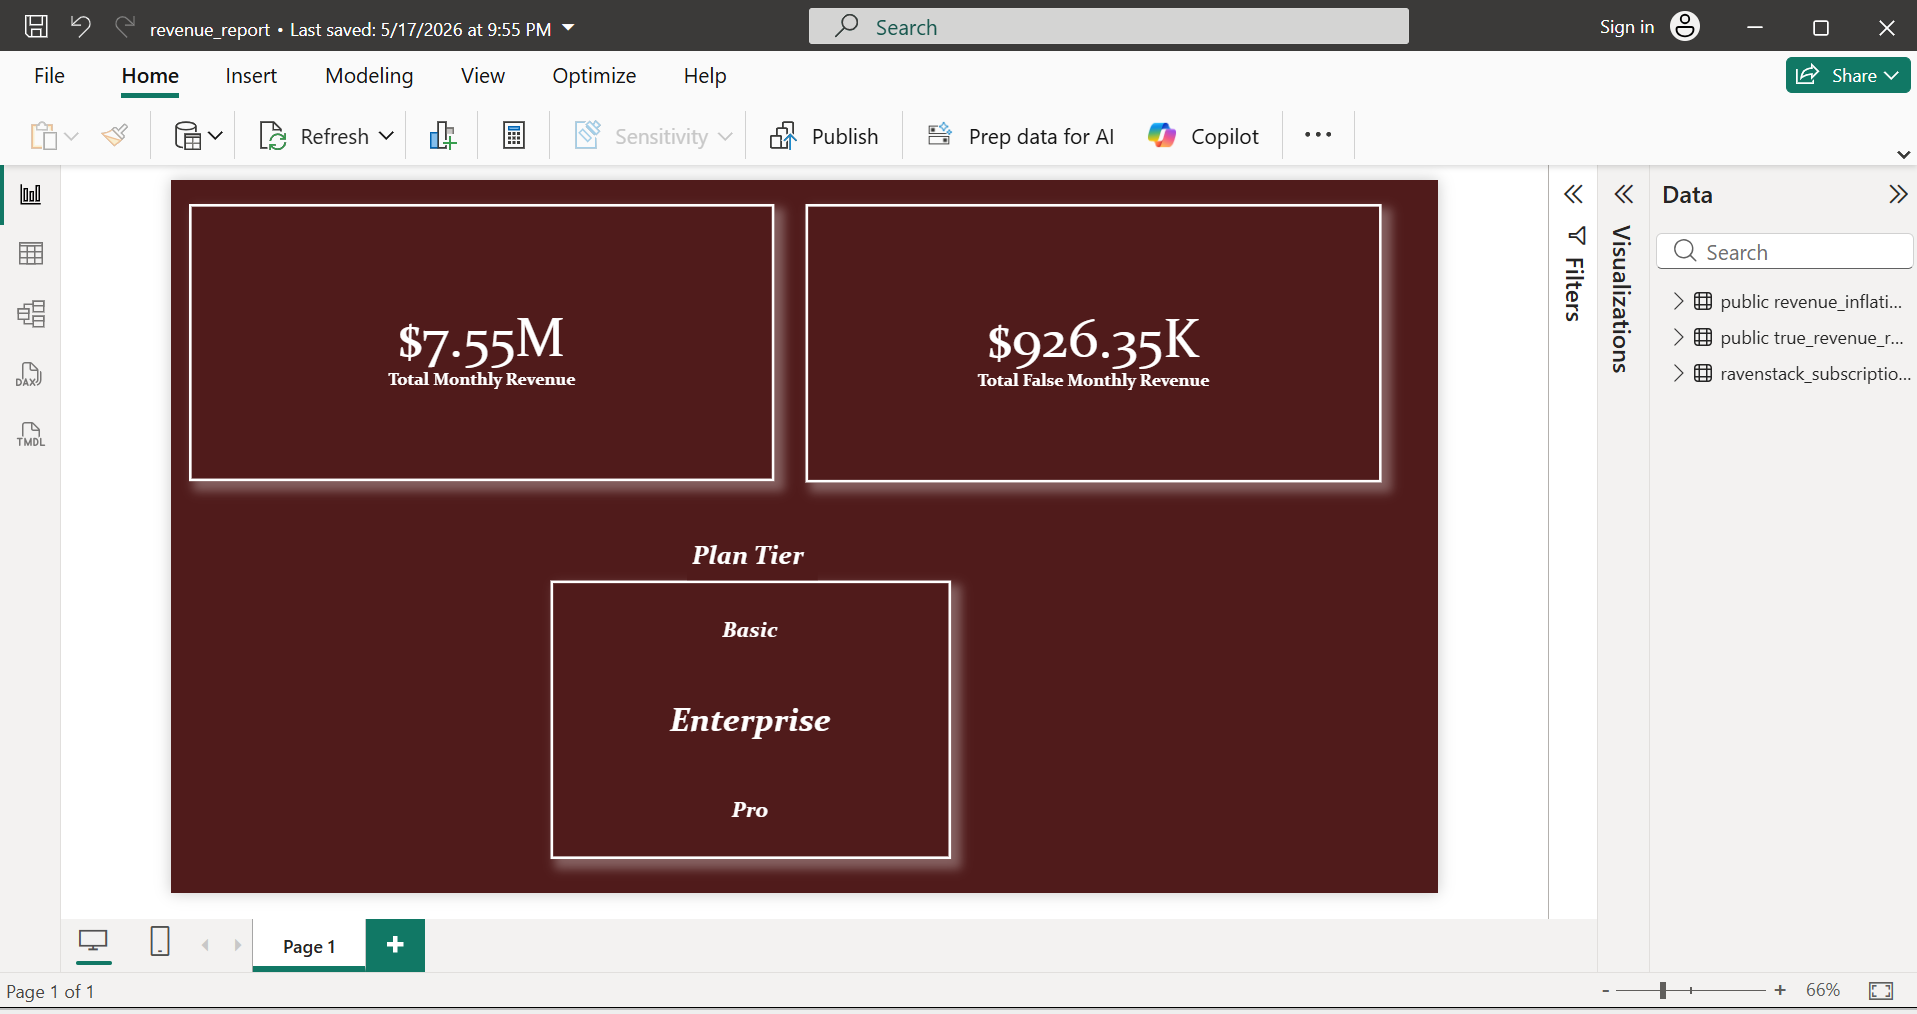

The page's visual inventory and layout, read from the dashboard file:
{"tool":"powerbi","page":{"name":"Page 1","canvas":[1280,720],"ordinal":0},"visuals":[{"type":"card","fields":{"Values":["public true_revenue_report.Total Monthly Revenue"]},"box":[18.9,24.6,591.5,279.7],"z":0},{"type":"card","fields":{"Values":["public revenue_inflation_audit.Total False Monthly Revenue"]},"box":[640.6,24.6,582.1,281.6],"z":1},{"type":"advancedSlicerVisual","title":"PLAN TIER","fields":{"Values":["ravenstack_subscriptions.plan_tier"]},"box":[383.6,404.4,404.4,281.6],"z":2},{"type":"textbox","box":[520.8,357.6,132.1,46.6],"z":3}]}

Visuals, with their boxes on the page's 1280x720 design canvas (x1, y1, x2, y2). These are canvas units, not pixel positions in the 1917x1014 screenshot, which may show the page scaled, cropped or inside an application window:
card - public true_revenue_report.Total Monthly Revenue: [left=19, top=25, right=610, bottom=304]
card - public revenue_inflation_audit.Total False Monthly Revenue: [left=641, top=25, right=1223, bottom=306]
"PLAN TIER" advancedSlicerVisual: [left=384, top=404, right=788, bottom=686]
textbox: [left=521, top=358, right=653, bottom=404]
